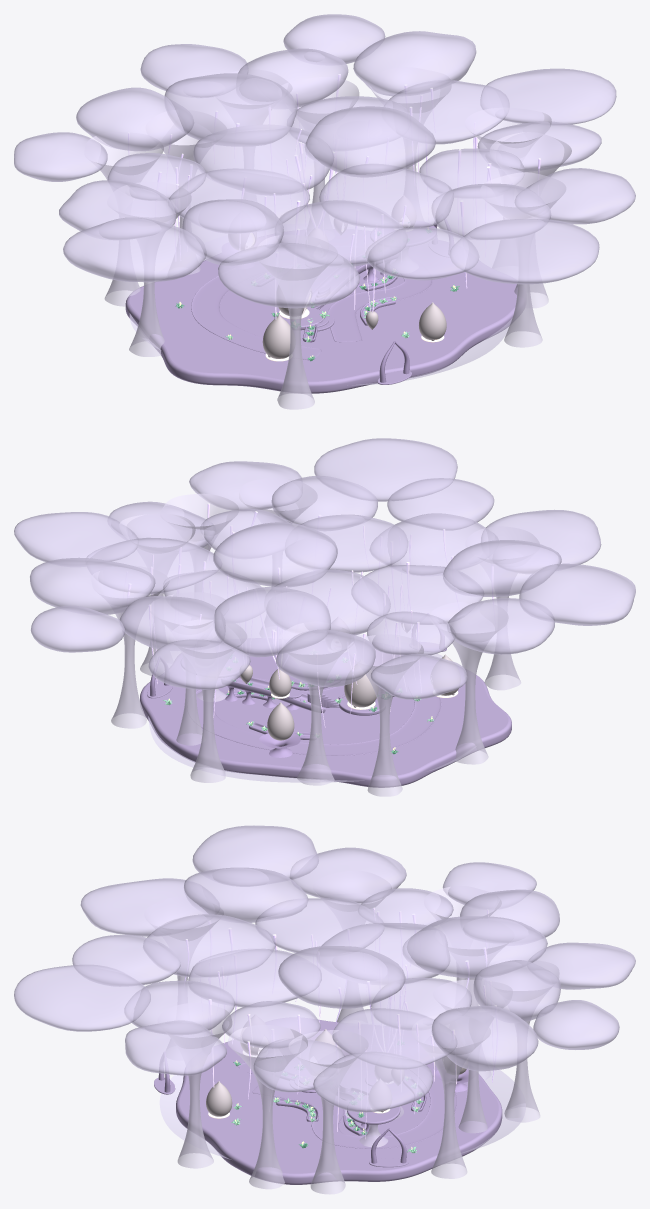
The model's file is neighborhood.glb.
The picture shows the model from 3 angles, top to bottom: view 1: azimuth 30°, elevation 25°; view 2: azimuth 150°, elevation 25°; view 3: azimuth 270°, elevation 25°; orthographic projection. The views are drawn at different scales.
Visible parts, largest first — view 1: Ground_Island, Canopy_Lobe_6, Canopy_Lobe_23, Canopy_Lobe_1, Canopy_Lobe_20, Canopy_Lobe_25, Canopy_Lobe_0, Canopy_Lobe_2, Canopy_Lobe_7, Canopy_Lobe_4, Canopy_Lobe_21, Canopy_Lobe_16 (+29 smaller); view 2: Ground_Island, Canopy_Lobe_23, Canopy_Lobe_6, Canopy_Lobe_0, Canopy_Lobe_1, Canopy_Lobe_4, Canopy_Lobe_25, Canopy_Lobe_20, Canopy_Lobe_16, Canopy_Lobe_2, Canopy_Lobe_12, Canopy_Lobe_8 (+33 smaller); view 3: Ground_Island, Canopy_Lobe_23, Canopy_Lobe_6, Canopy_Lobe_7, Canopy_Lobe_0, Canopy_Lobe_20, Canopy_Lobe_2, Canopy_Lobe_25, Canopy_Lobe_8, Canopy_Lobe_21, Canopy_Lobe_16, Canopy_Lobe_1 (+31 smaller).
Part boxes in pixels (bbox=[...]): Ground_Island: bbox=[125, 229, 524, 393]; Canopy_Lobe_6: bbox=[164, 73, 297, 146]; Canopy_Lobe_23: bbox=[450, 219, 599, 284]; Canopy_Lobe_1: bbox=[193, 124, 333, 195]; Canopy_Lobe_20: bbox=[218, 242, 360, 308]; Canopy_Lobe_25: bbox=[63, 217, 206, 282]; Canopy_Lobe_0: bbox=[305, 106, 435, 177]; Canopy_Lobe_2: bbox=[319, 164, 453, 228]; Canopy_Lobe_7: bbox=[275, 200, 407, 266]; Canopy_Lobe_4: bbox=[168, 168, 309, 233]; Canopy_Lobe_21: bbox=[480, 68, 616, 125]; Canopy_Lobe_16: bbox=[353, 31, 476, 96]; Ground_Island: bbox=[140, 638, 511, 787]; Canopy_Lobe_23: bbox=[314, 438, 457, 501]; Canopy_Lobe_6: bbox=[214, 587, 330, 657]; Canopy_Lobe_0: bbox=[213, 522, 337, 587]; Canopy_Lobe_1: bbox=[266, 569, 390, 635]; Canopy_Lobe_4: bbox=[351, 565, 483, 624]; Canopy_Lobe_25: bbox=[519, 563, 635, 625]; Canopy_Lobe_20: bbox=[481, 509, 601, 573]; Canopy_Lobe_16: bbox=[30, 557, 155, 614]; Canopy_Lobe_2: bbox=[285, 514, 407, 572]; Canopy_Lobe_12: bbox=[443, 540, 561, 596]; Canopy_Lobe_8: bbox=[87, 537, 218, 593]; Ground_Island: bbox=[176, 1018, 502, 1184]; Canopy_Lobe_23: bbox=[14, 965, 150, 1031]; Canopy_Lobe_6: bbox=[402, 916, 547, 978]; Canopy_Lobe_7: bbox=[143, 914, 275, 976]; Canopy_Lobe_0: bbox=[278, 946, 405, 1008]; Canopy_Lobe_20: bbox=[80, 878, 219, 936]; Canopy_Lobe_2: bbox=[188, 948, 321, 1007]; Canopy_Lobe_25: bbox=[192, 825, 318, 886]; Canopy_Lobe_8: bbox=[332, 1008, 456, 1069]; Canopy_Lobe_21: bbox=[313, 1052, 433, 1112]; Canopy_Lobe_16: bbox=[431, 1005, 538, 1071]; Canopy_Lobe_1: bbox=[321, 923, 449, 983].
Size of the model in its own units: 107 by 38.15 by 103.
